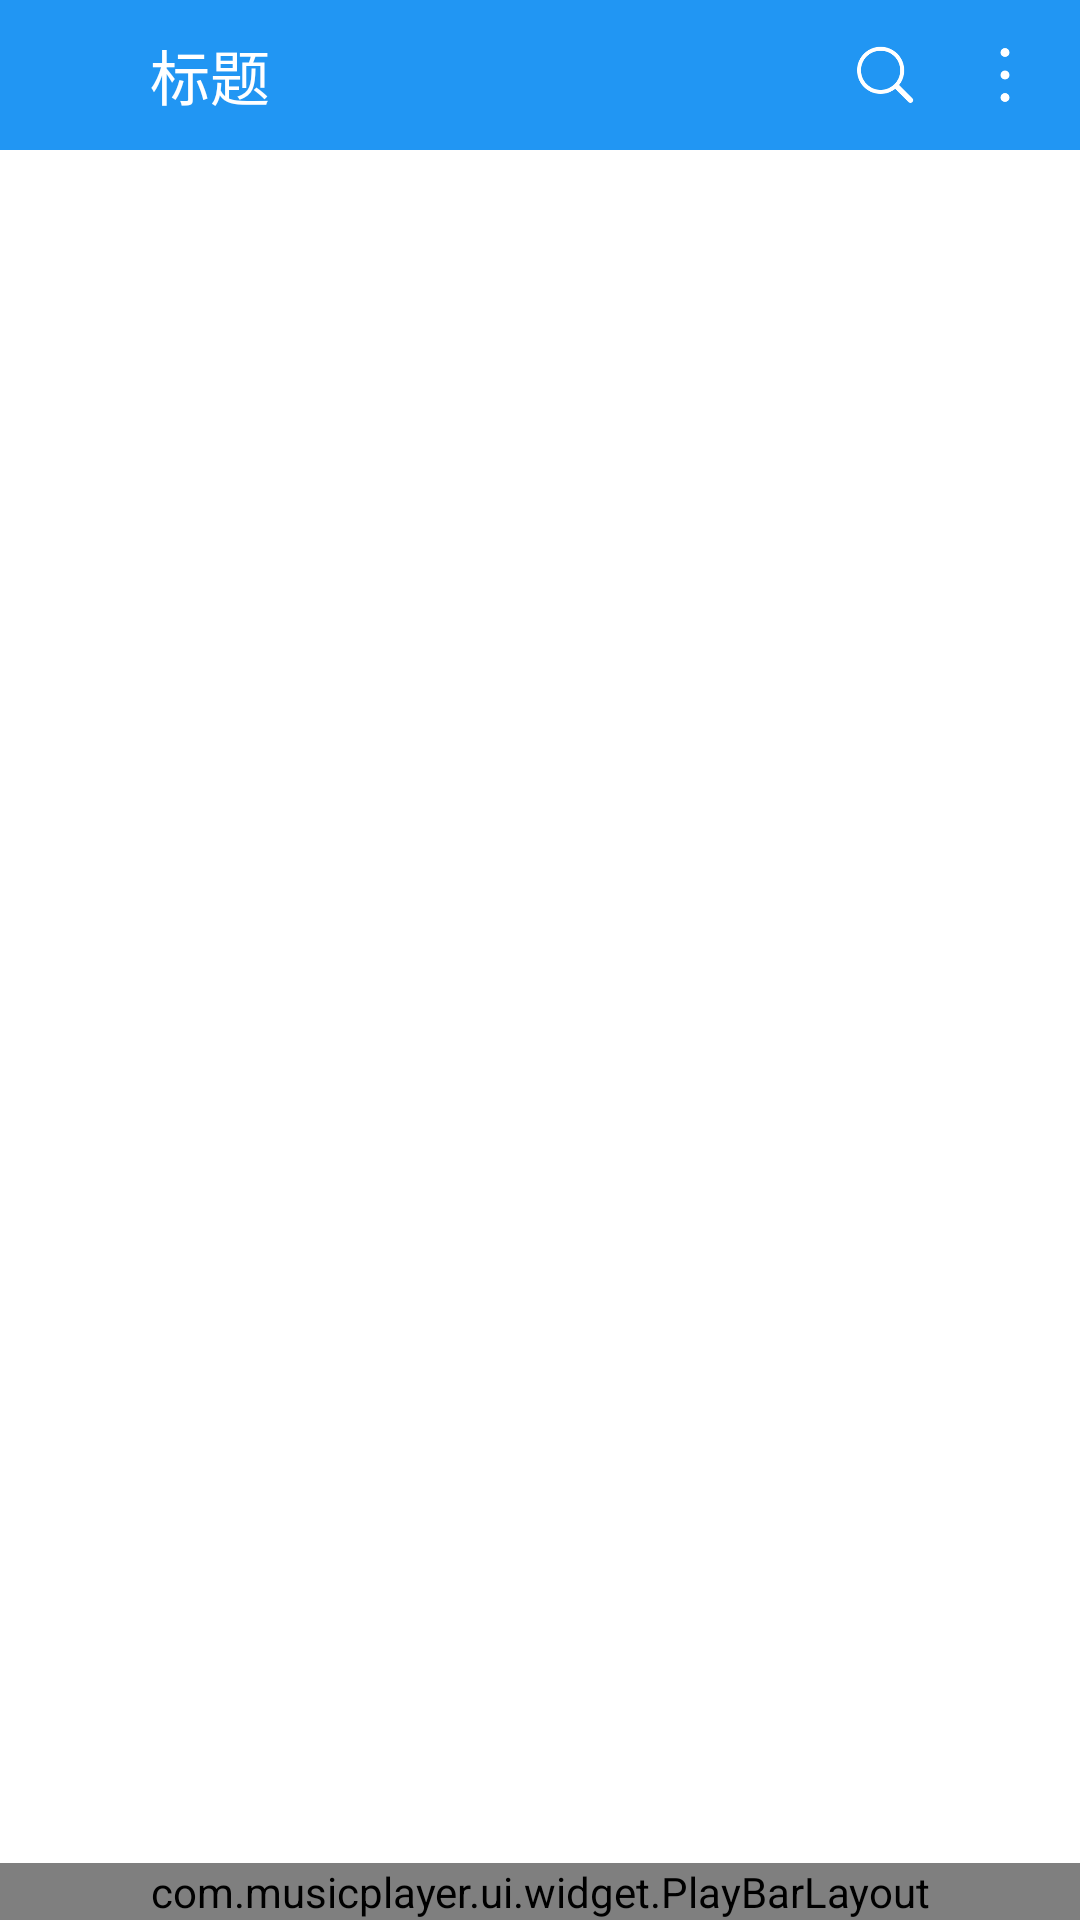

Locate icon controls on the screen. Image size 1080x1920, boxes as (x1, y1, x2, y2).
search: (857, 46, 913, 103)
title menu: (1000, 48, 1010, 102)
